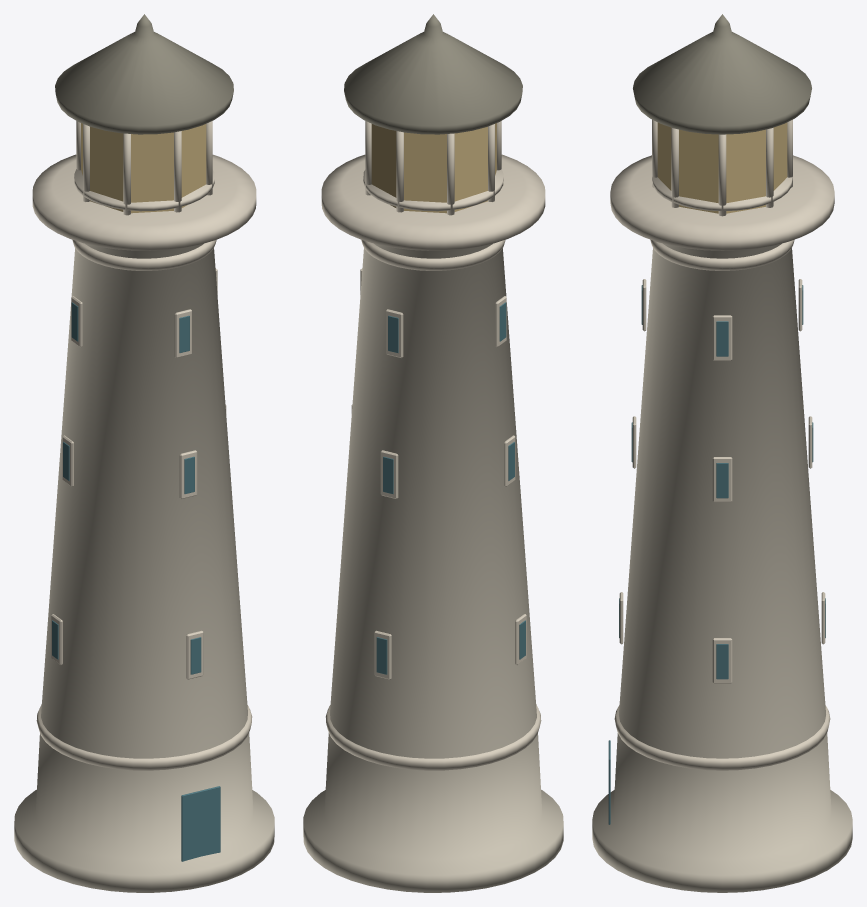
The model's file is alc_lighthouse.glb.
The picture shows the model from 3 angles, left to right: view 1: azimuth 30°, elevation 25°; view 2: azimuth 150°, elevation 25°; view 3: azimuth 270°, elevation 25°; orthographic projection.
Parts seen in each view (by area): view 1: alc_lighthouse; view 2: alc_lighthouse; view 3: alc_lighthouse.
Boxes of the visible parts, bbox=[...] form: alc_lighthouse: bbox=[14, 14, 274, 892]; alc_lighthouse: bbox=[303, 14, 563, 892]; alc_lighthouse: bbox=[592, 14, 852, 892].
Bounding box in the file's own units: 4.3 × 15 × 4.3.
